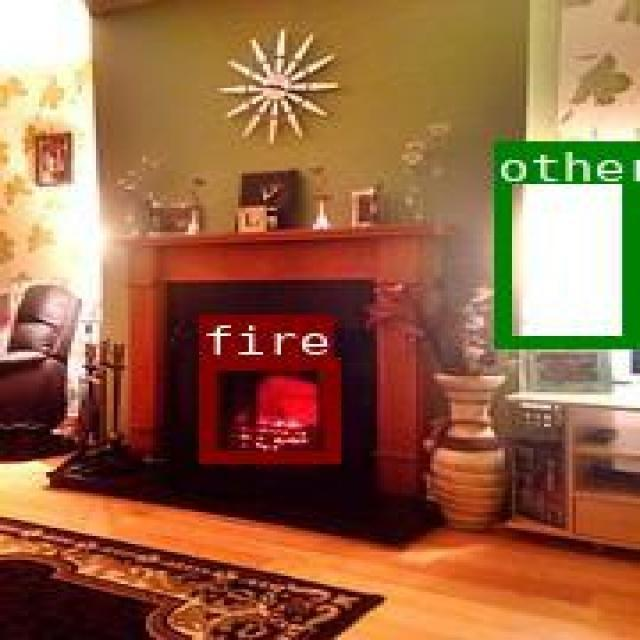fire: (196, 358, 334, 460)
